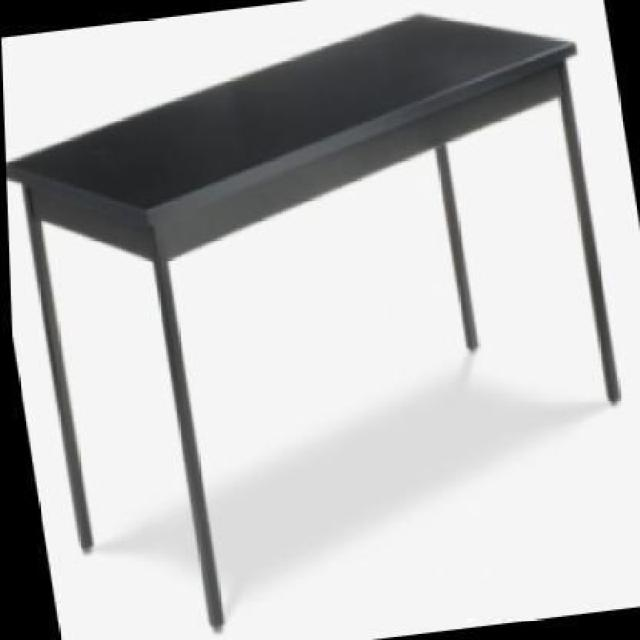tables: (2, 4, 623, 630)
